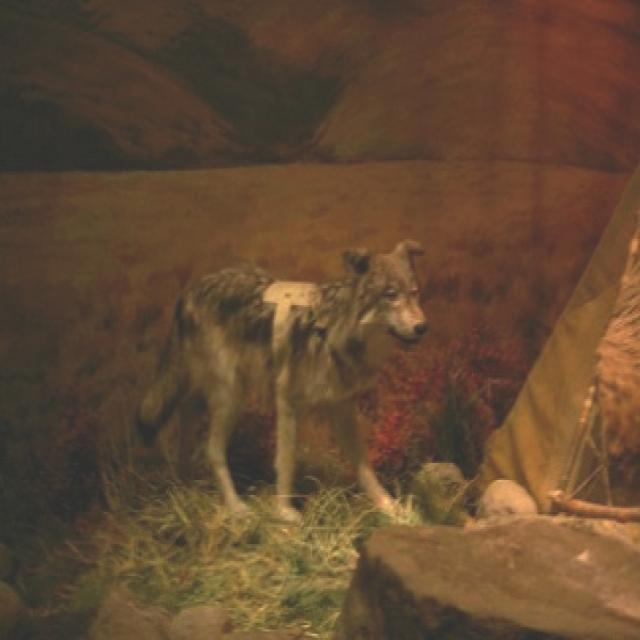Dog: (140, 191, 451, 541)
